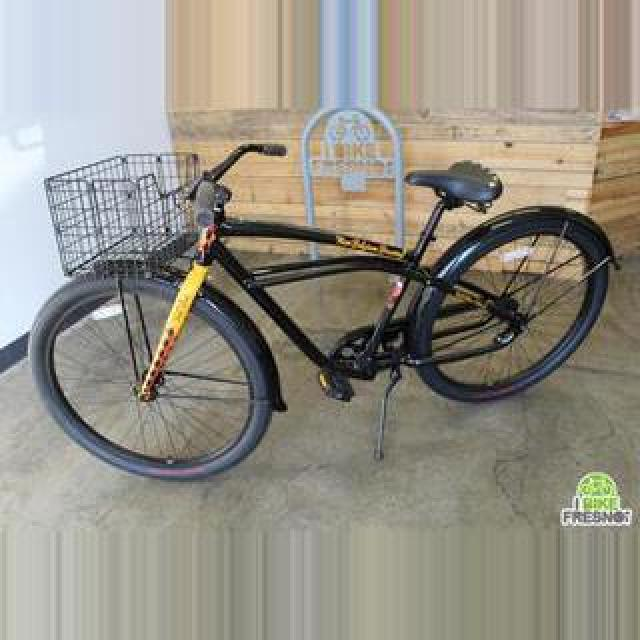Person: (24, 138, 622, 486)
